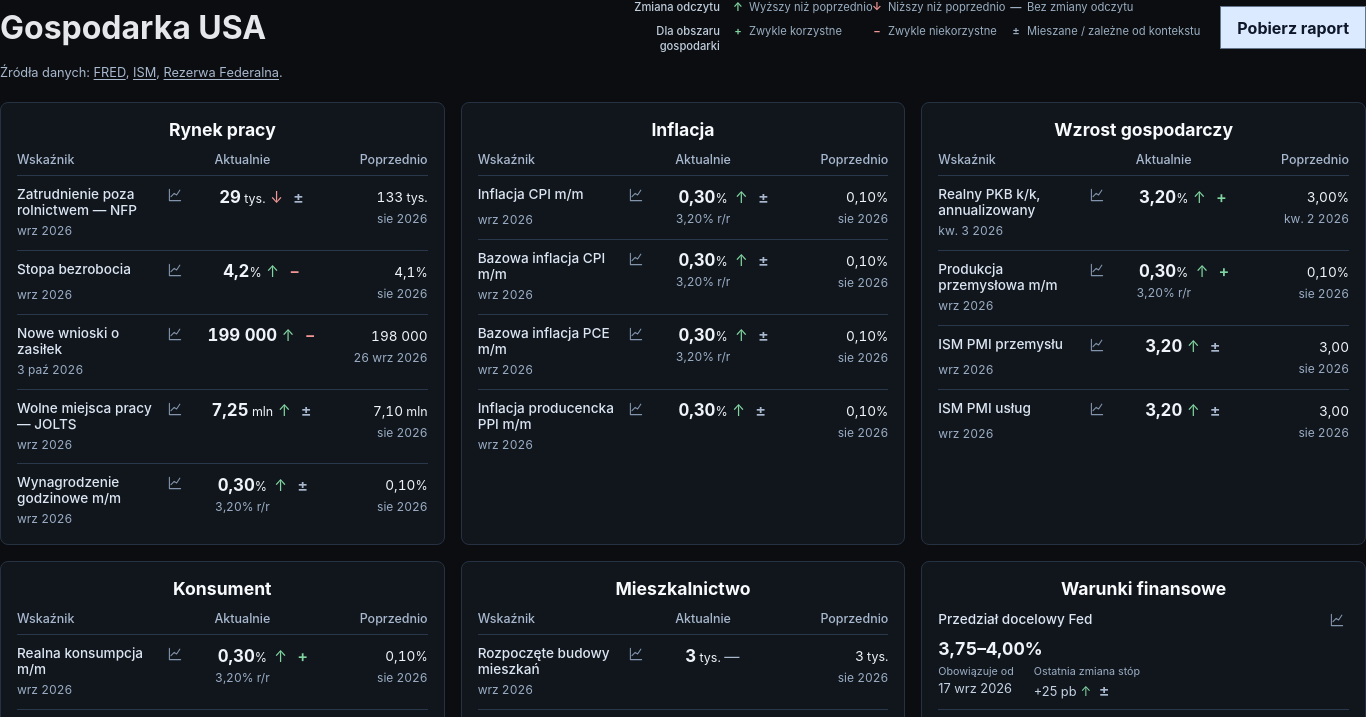
Test: reading popup separates name, periods and rounded difference in pl
The image size is (1366, 717).
Click the button "↓": coordinates (276, 197) x1=268 y1=186 x2=286 y2=208
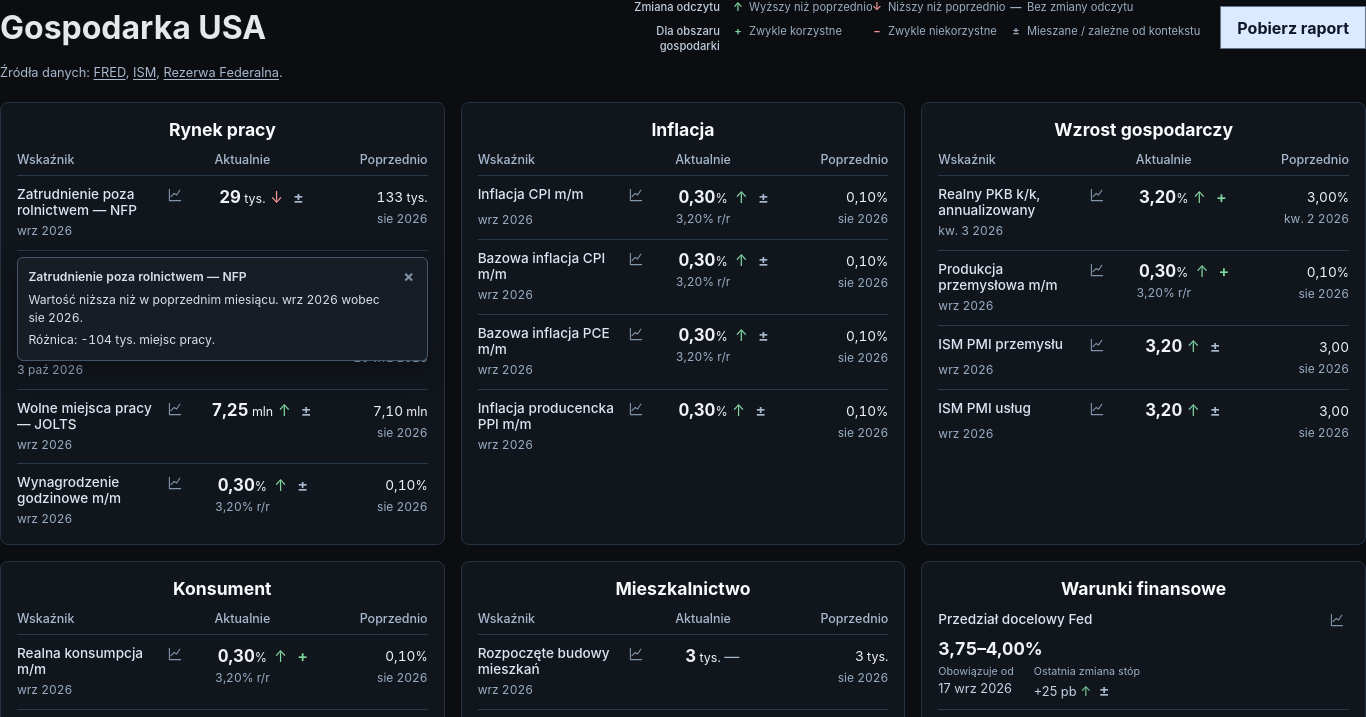
Expected: the text "Zatrudnienie poza rolnictwem — NFP" is shown, x1=28 y1=269 x2=247 y2=284
Expected: the button named "Zamknij objaśnienie" is shown, x1=396 y1=263 x2=422 y2=289
